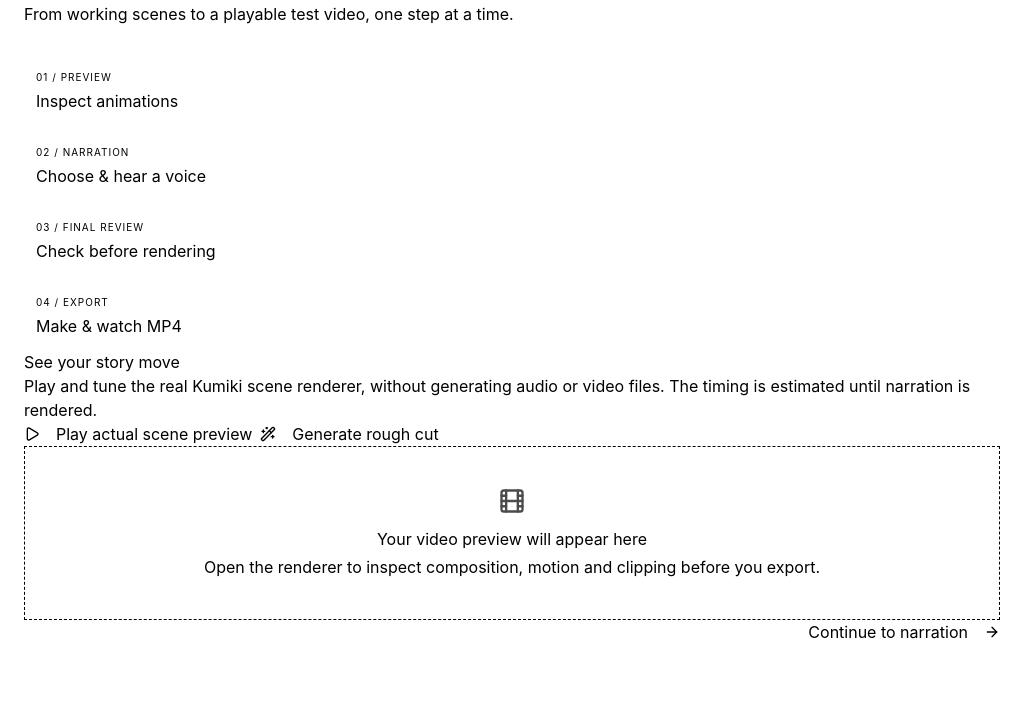
Test: keeps render progress when switching production steps
Click the tab "03 / Final review Check before rendering".
click(103, 227)  # box [24,208,1000,275]
(page scrolled)
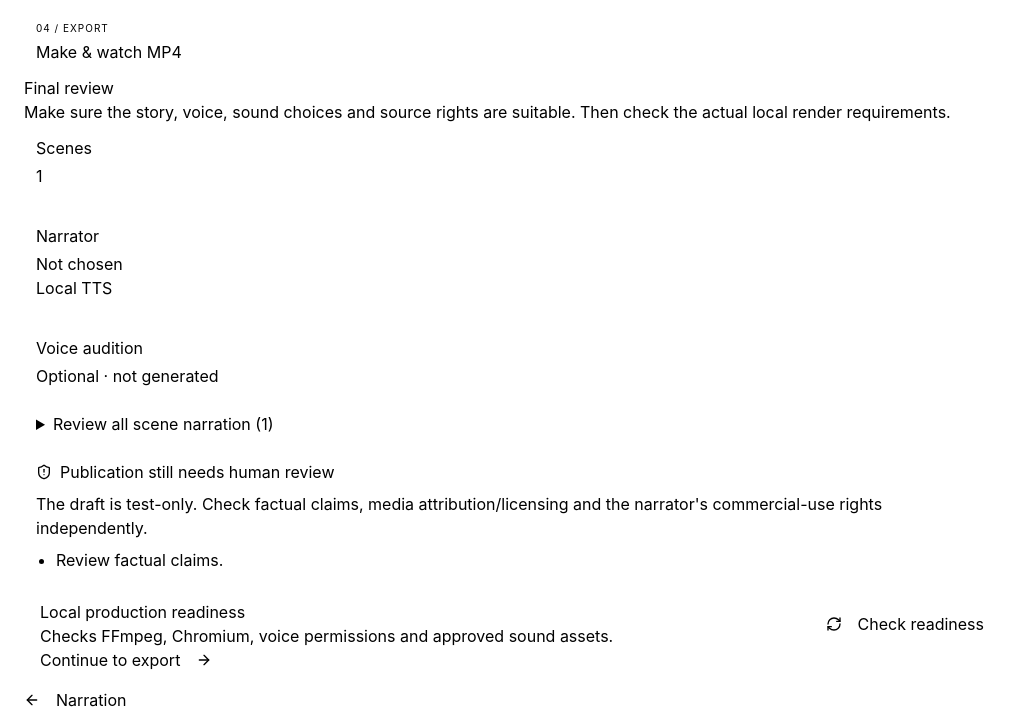
Expected: the button "Check readiness" is shown
Click the button "Check readiness".
click(905, 624)  # box [826,612,984,636]
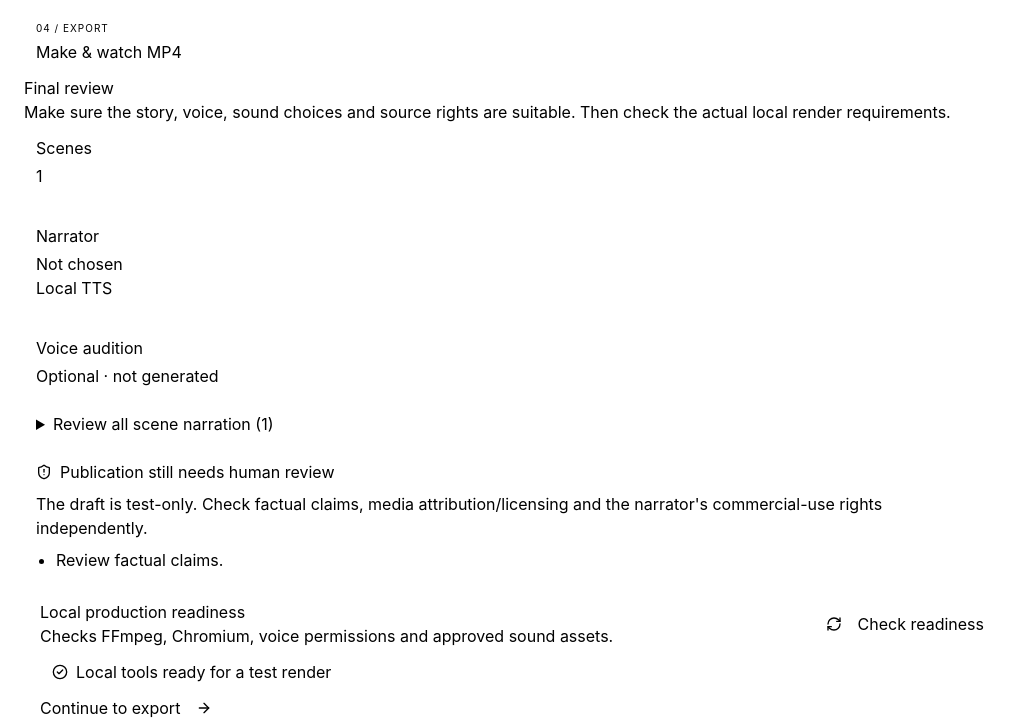
Expected: the button "Continue to export" is enabled
Click the button "Continue to export".
click(126, 708)  # box [40,696,212,720]
(page scrolled)
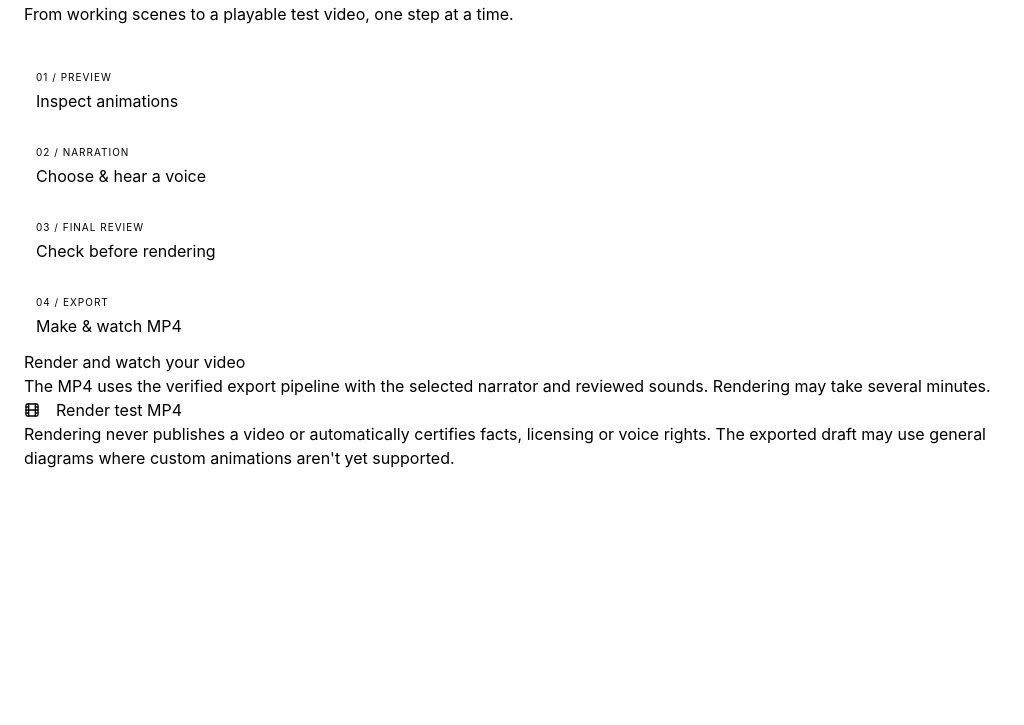
Click the button "Render test MP4".
click(103, 410)  # box [24,398,182,422]
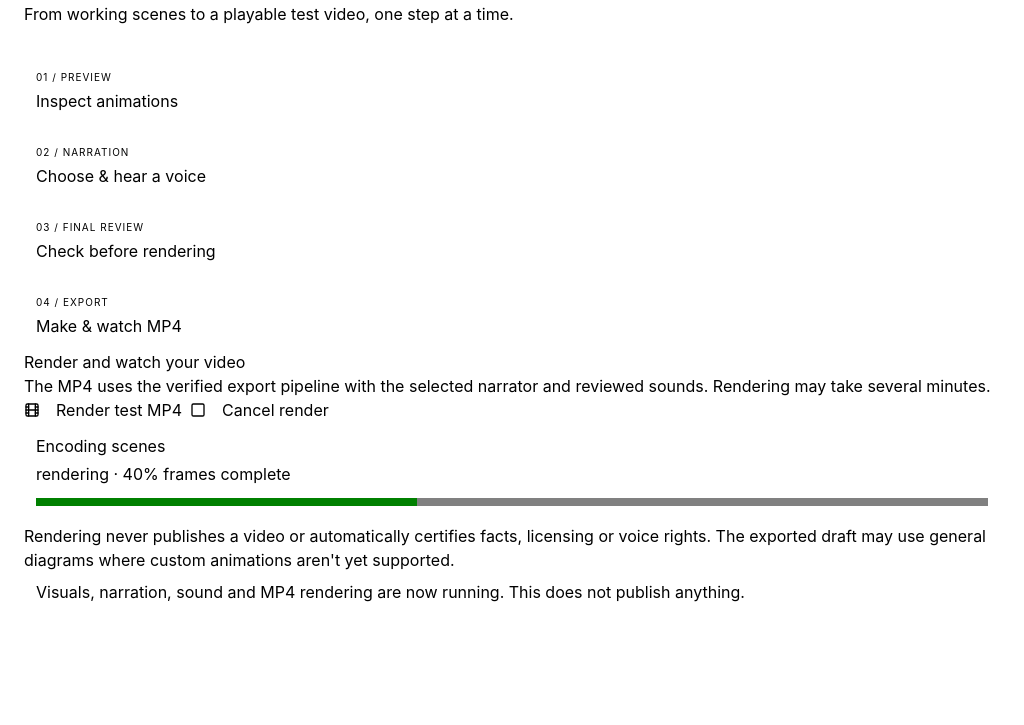
Expected: the text "Encoding scenes" is shown, [36,436,165,456]
Click the tab "02 / Narration Choose & hear a voice".
click(96, 152)  # box [24,133,1000,200]
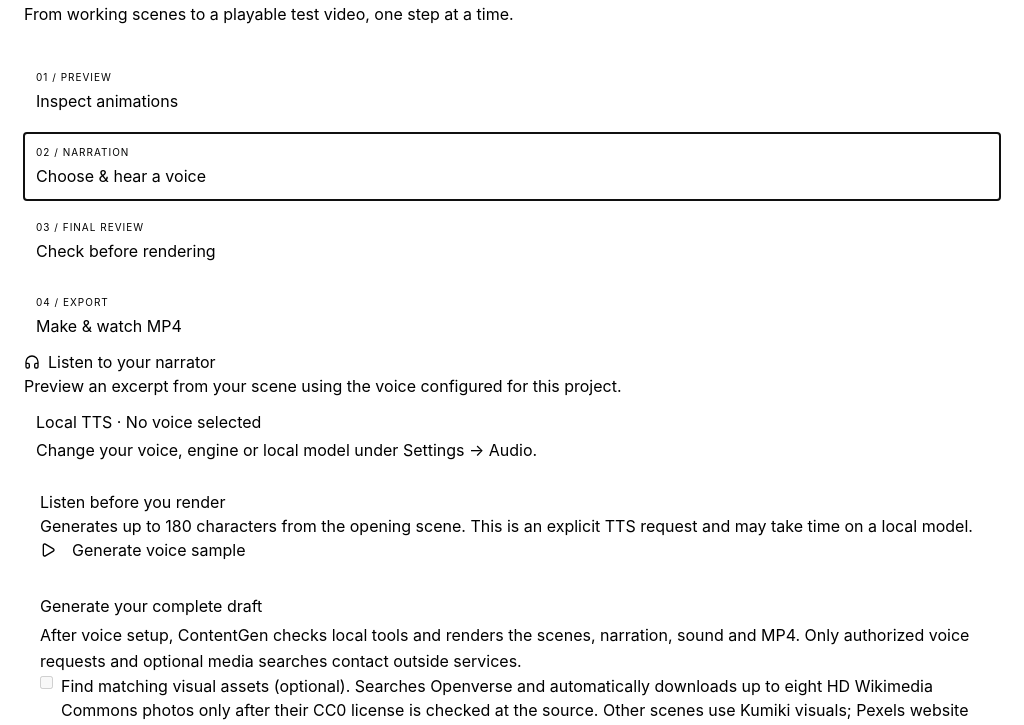
Click the tab "04 / Export Make & watch MP4".
click(86, 302)  # box [24,283,1000,350]
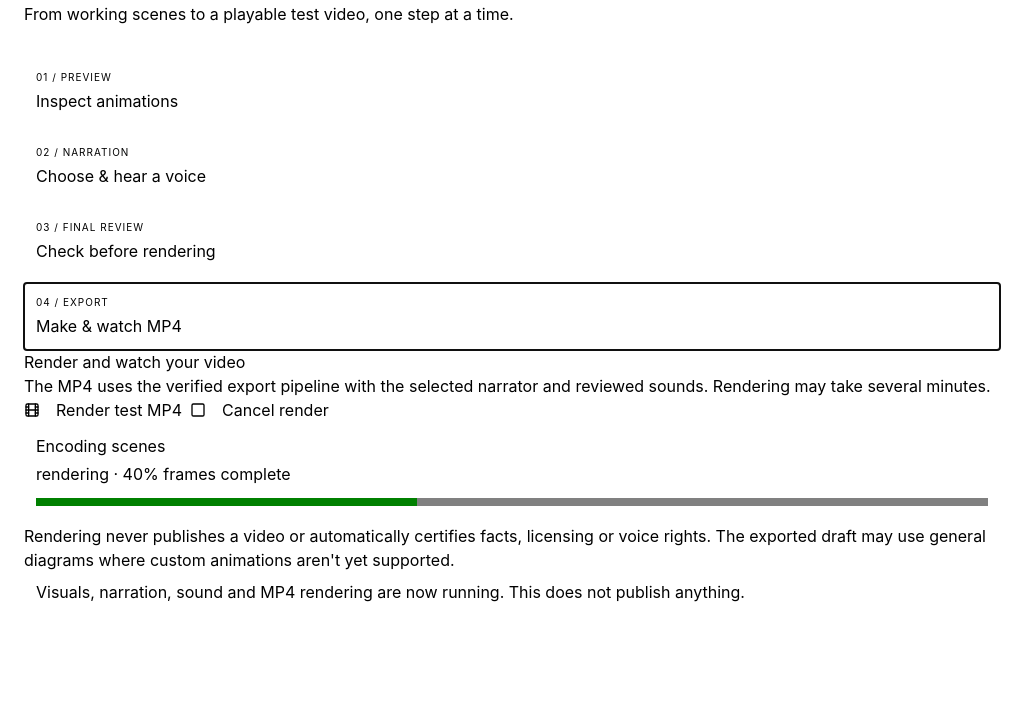
Expected: the button "Cancel render" is shown, [190,398,329,422]
